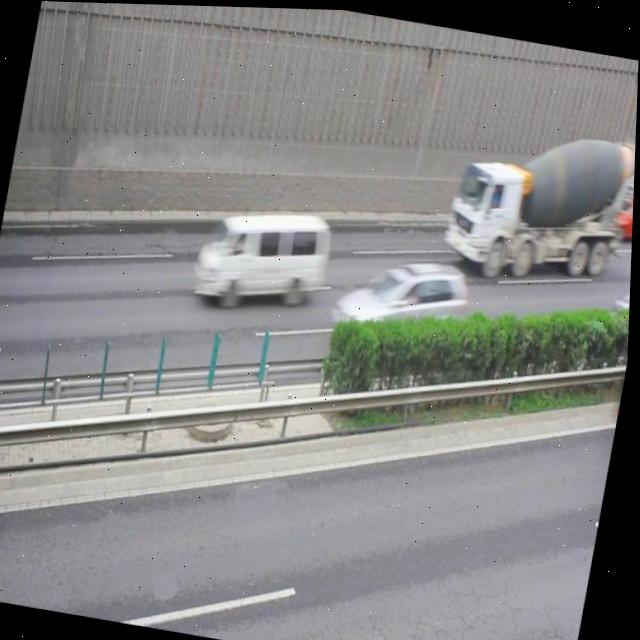bus: (442, 110, 636, 287)
car: (328, 245, 474, 365), (606, 187, 635, 241)
truck: (193, 195, 336, 315)
